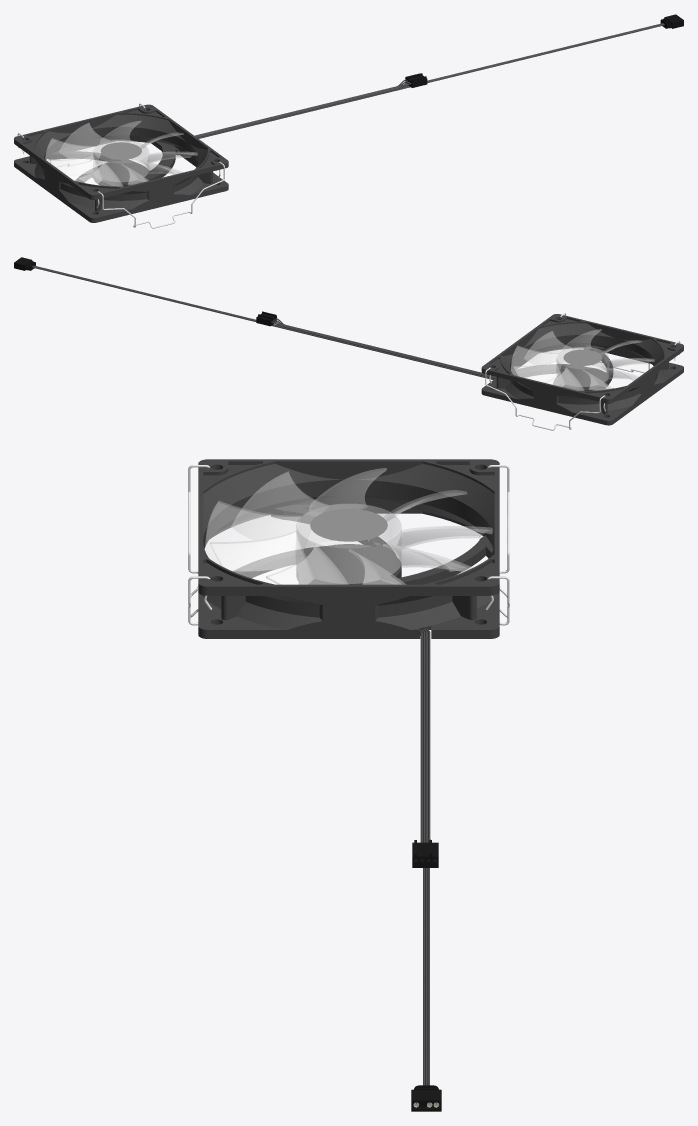
Rendered from Fan 1.glb.
The picture shows the model from 3 angles, top to bottom: view 1: azimuth 30°, elevation 25°; view 2: azimuth 150°, elevation 25°; view 3: azimuth 270°, elevation 25°; orthographic projection. The views are drawn at different scales.
Visible parts, largest first — view 1: Fan1 P1 (×6); view 2: Fan1 P1 (×6); view 3: Fan1 P1 (×5).
Part boxes in pixels (x1,y1,x2,y2): Fan1 P1 (×6): (14, 23, 664, 228); Fan1 P1 (×6): (32, 265, 683, 430); Fan1 P1 (×5): (198, 459, 499, 1085).
Size of the model in its own units: 0.5616 by 0.0384 by 0.128.
14 materials, 6 textured.
